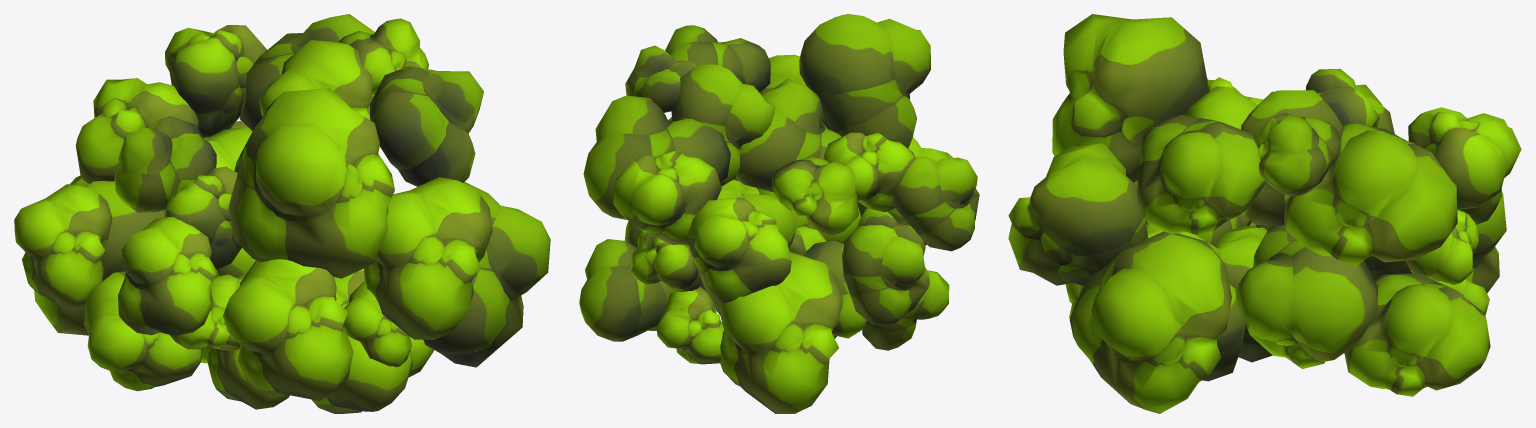
The model's file is leaves2.glb.
The picture shows the model from 3 angles, left to right: view 1: azimuth 30°, elevation 25°; view 2: azimuth 150°, elevation 25°; view 3: azimuth 270°, elevation 25°; orthographic projection. The views are drawn at different scales.
Parts seen in each view (by area): view 1: Leaves-LP2.028, Leaves-LP2.029, Leaves-LP2.026, Leaves-LP2.031, Leaves-LP2.106, Leaves-LP2.030, Leaves-LP2.041, Leaves-LP2.045, Leaves-LP2.042, Leaves-LP2.105, Leaves-LP2.038, Leaves-LP2.027 (+10 smaller); view 2: Leaves-LP2.039, Leaves-LP2.028, Leaves-LP2.038, Leaves-LP2.044, Leaves-LP2.045, Leaves-LP2.041, Leaves-LP2.030, Leaves-LP2.034, Leaves-LP2.037, Leaves-LP2.027, Leaves-LP2.105, Leaves-LP2.048 (+12 smaller); view 3: Leaves-LP2.106, Leaves-LP2.044, Leaves-LP2.028, Leaves-LP2.029, Leaves-LP2.046, Leaves-LP2.034, Leaves-LP2.031, Leaves-LP2.045, Leaves-LP2.033, Leaves-LP2.027, Leaves-LP2.032, Leaves-LP2.049 (+9 smaller).
Boxes of the visible parts, bbox=[...] form: Leaves-LP2.028: bbox=[228, 88, 394, 278]; Leaves-LP2.029: bbox=[364, 177, 492, 339]; Leaves-LP2.026: bbox=[223, 259, 353, 400]; Leaves-LP2.031: bbox=[369, 66, 483, 186]; Leaves-LP2.106: bbox=[423, 182, 550, 367]; Leaves-LP2.030: bbox=[118, 217, 217, 336]; Leaves-LP2.041: bbox=[14, 184, 112, 309]; Leaves-LP2.045: bbox=[165, 25, 266, 138]; Leaves-LP2.042: bbox=[83, 271, 202, 391]; Leaves-LP2.105: bbox=[114, 116, 216, 212]; Leaves-LP2.038: bbox=[75, 78, 198, 183]; Leaves-LP2.027: bbox=[259, 40, 372, 119]; Leaves-LP2.039: bbox=[720, 252, 842, 413]; Leaves-LP2.028: bbox=[799, 14, 930, 148]; Leaves-LP2.038: bbox=[688, 197, 791, 304]; Leaves-LP2.044: bbox=[583, 95, 730, 219]; Leaves-LP2.045: bbox=[613, 151, 721, 244]; Leaves-LP2.041: bbox=[842, 224, 929, 326]; Leaves-LP2.030: bbox=[892, 156, 979, 251]; Leaves-LP2.034: bbox=[579, 239, 674, 341]; Leaves-LP2.037: bbox=[736, 78, 841, 191]; Leaves-LP2.027: bbox=[671, 64, 775, 186]; Leaves-LP2.105: bbox=[772, 156, 858, 235]; Leaves-LP2.048: bbox=[824, 132, 915, 211]; Leaves-LP2.106: bbox=[1069, 231, 1231, 413]; Leaves-LP2.044: bbox=[1284, 123, 1457, 266]; Leaves-LP2.028: bbox=[1052, 14, 1209, 182]; Leaves-LP2.029: bbox=[1008, 143, 1148, 286]; Leaves-LP2.046: bbox=[1235, 225, 1377, 368]; Leaves-LP2.034: bbox=[1344, 273, 1490, 396]; Leaves-LP2.031: bbox=[1137, 115, 1265, 234]; Leaves-LP2.045: bbox=[1408, 107, 1521, 209]; Leaves-LP2.033: bbox=[1257, 112, 1340, 196]; Leaves-LP2.027: bbox=[1241, 90, 1344, 225]; Leaves-LP2.032: bbox=[1405, 210, 1478, 284]; Leaves-LP2.049: bbox=[1215, 225, 1272, 362].
Size of the model in its own units: 0.8964 by 0.6997 by 0.947.
Materials: 1 (1 with a texture image).
